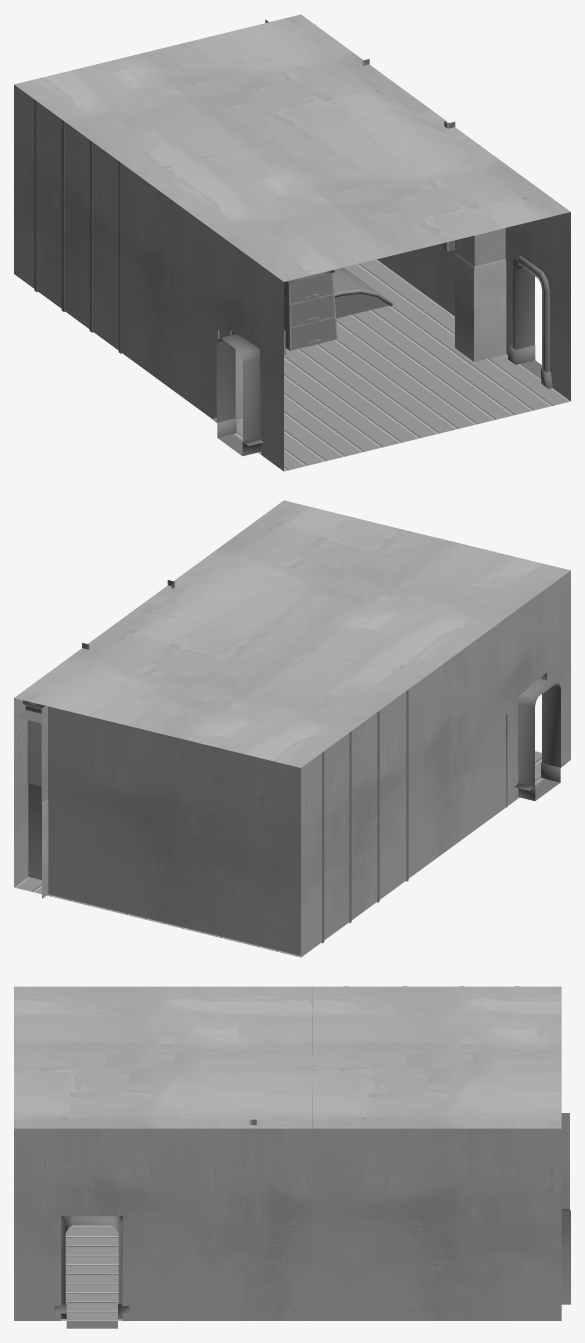
File: MSH_Agility_room_L3_R1_optimized.fbx
3 renders of one model, top to bottom at view 1: azimuth 30°, elevation 25°; view 2: azimuth 150°, elevation 25°; view 3: azimuth 270°, elevation 25°, orthographic.
Parts seen in each view (by area): view 1: lightmap1, lightmap0, lightmap-1; view 2: lightmap1, lightmap-1, lightmap0; view 3: lightmap1, lightmap-1, lightmap0.
Boxes of the visible parts, box(x1,y1,x2,y2) form: lightmap1: box(14, 14, 570, 471); lightmap0: box(34, 59, 455, 354); lightmap-1: box(216, 265, 541, 456); lightmap1: box(14, 500, 570, 957); lightmap-1: box(518, 678, 560, 800); lightmap0: box(82, 580, 408, 943); lightmap1: box(14, 986, 570, 1320); lightmap-1: box(65, 1216, 118, 1328); lightmap0: box(249, 986, 519, 1245).
Bounding box in the file's own units: 10.3 × 6.12 × 15.41.
Materials: 3 (3 with a texture image).
